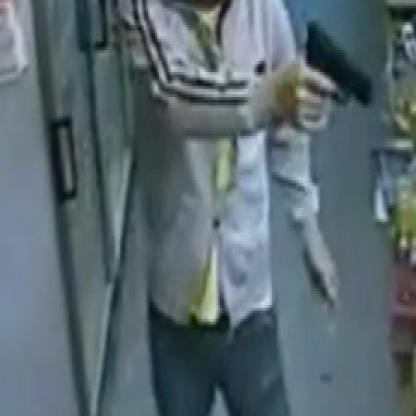gun: (290, 3, 381, 122)
